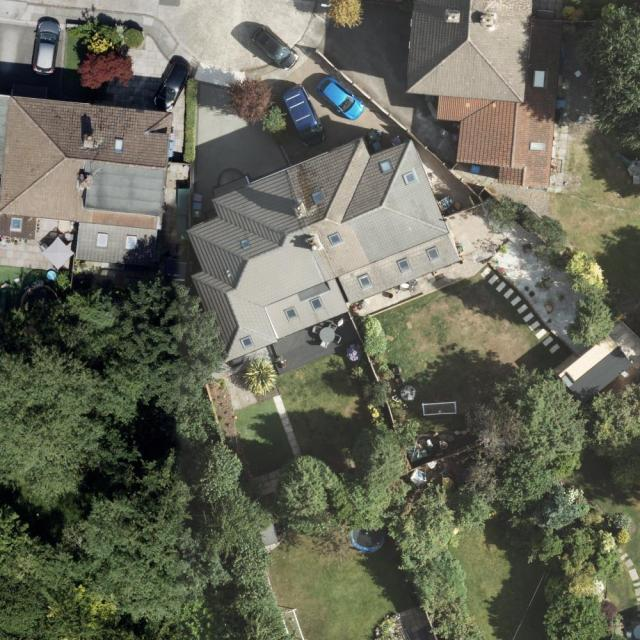roof: (185, 138, 462, 363), (1, 92, 177, 264), (406, 0, 565, 189)
skylight: (375, 158, 396, 178), (400, 170, 419, 189), (424, 244, 441, 264), (355, 272, 375, 289), (395, 255, 412, 274), (531, 70, 548, 89), (236, 235, 254, 252), (284, 304, 301, 322), (122, 233, 138, 252), (309, 296, 325, 314), (237, 335, 256, 350), (327, 231, 344, 247), (310, 189, 325, 207), (95, 231, 109, 249), (112, 135, 124, 154), (11, 216, 25, 232), (526, 140, 544, 152)
